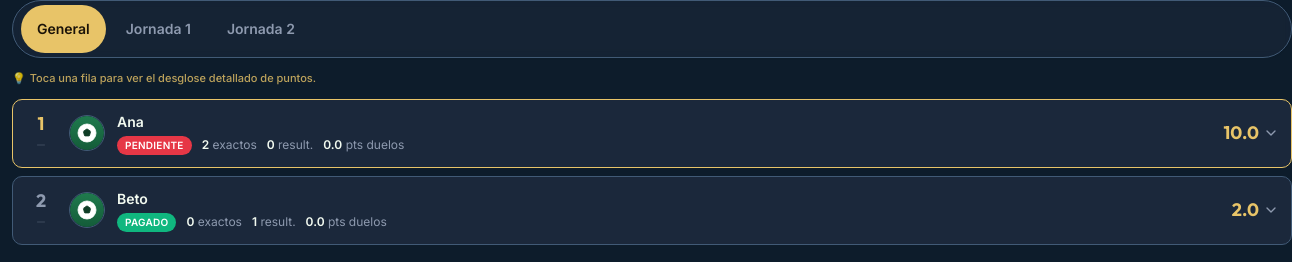
StandingsTable › al cambiar de pestaña recalcula los puntos de esa jornada
Check: the text "10.0" is shown, box 1224,119 -> 1259,147
Click the tab "Jornada 2" at (261, 29), box 211,5 -> 311,53
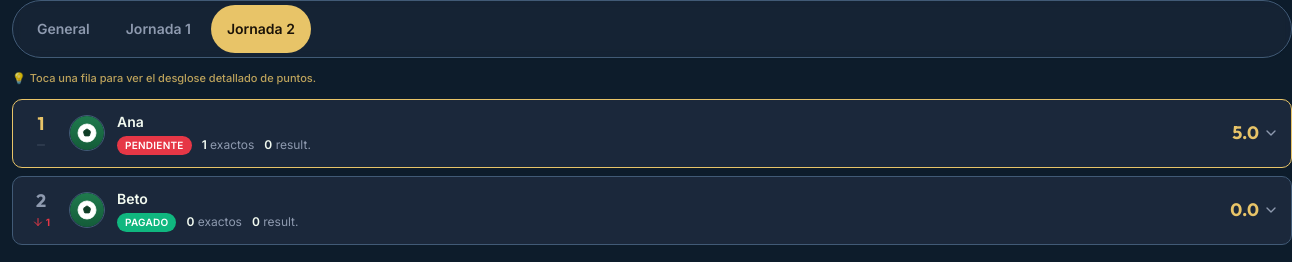
Check: the text "5.0" is shown, box 1232,119 -> 1259,147
Check: the text "0.0" is shown, box 1230,196 -> 1259,224
Check: the button "10.0" is gone
